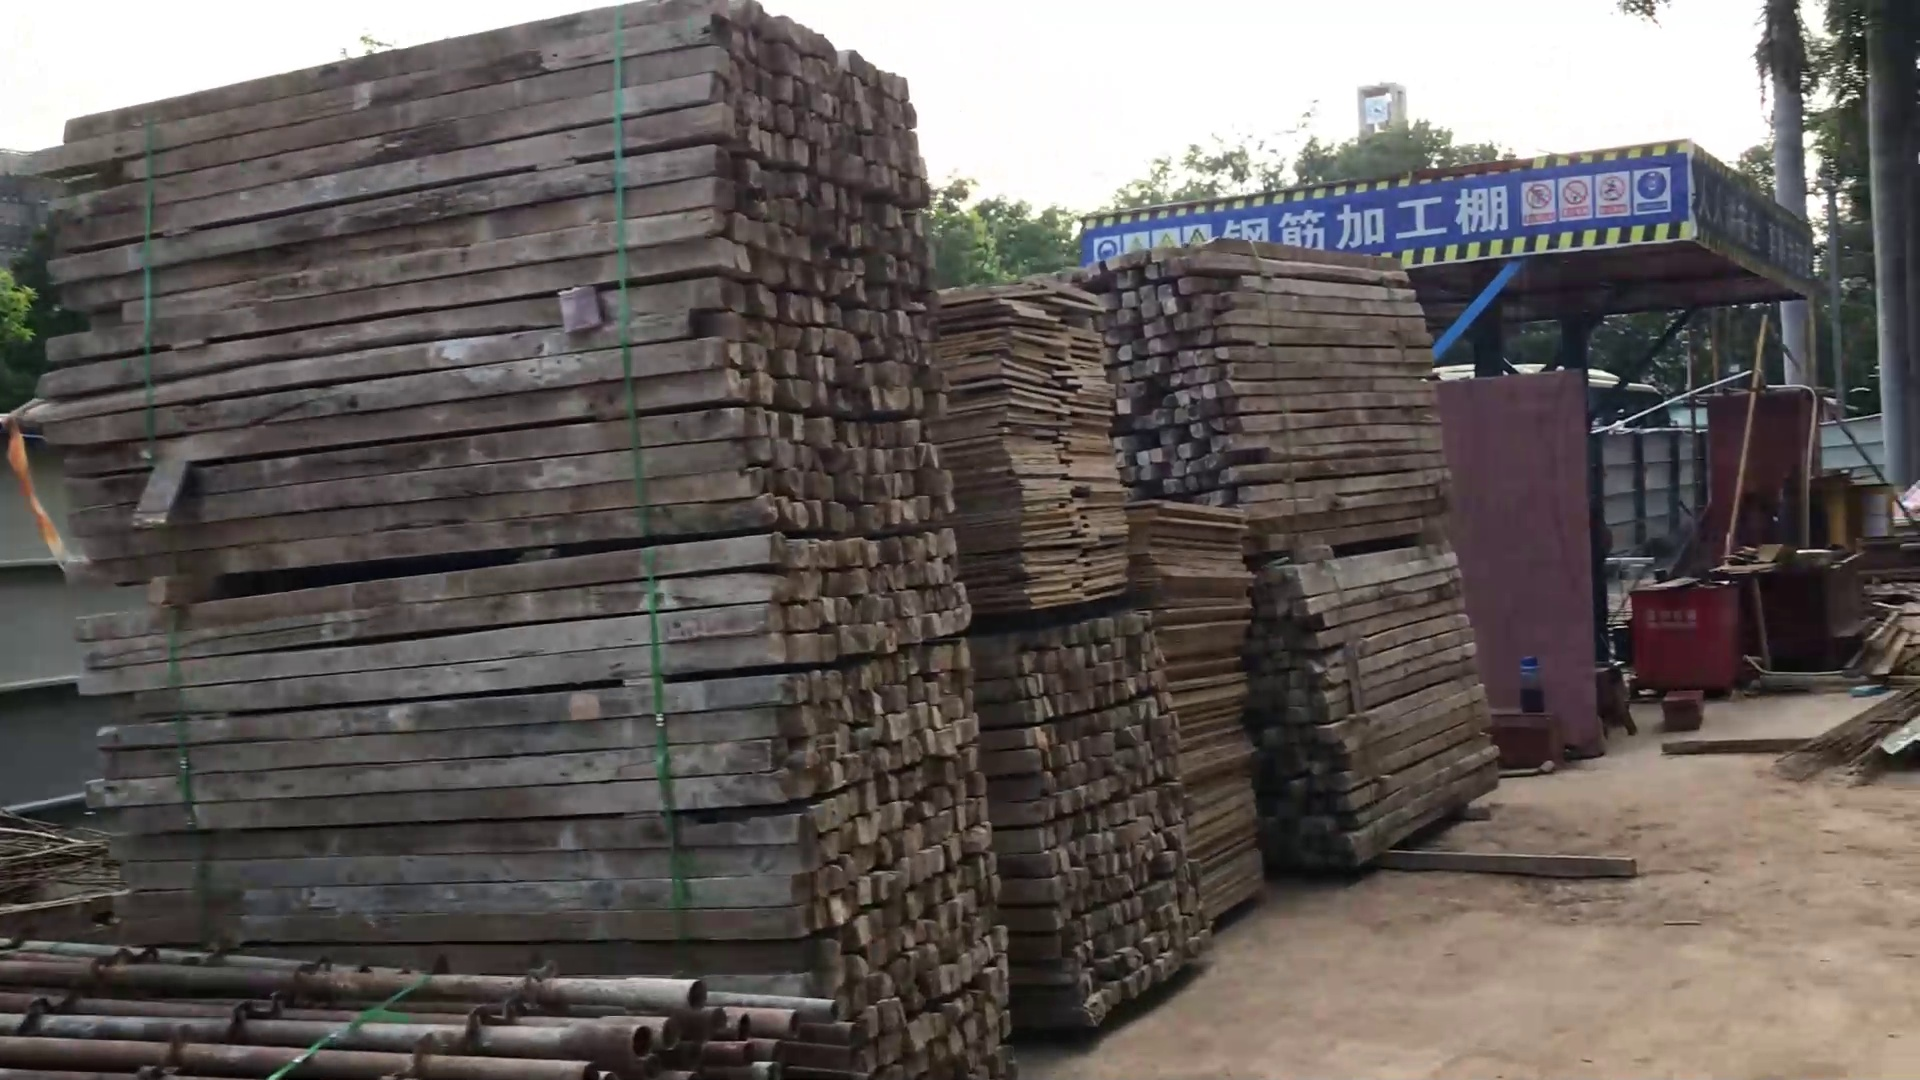board: (919, 264, 1153, 621), (1106, 477, 1280, 938)
scaffold: (8, 926, 869, 1080)
slogan: (1691, 150, 1817, 301)
wood: (7, 7, 965, 588), (73, 562, 1030, 1080), (1093, 225, 1472, 562), (1246, 517, 1522, 914), (963, 588, 1197, 1044)
